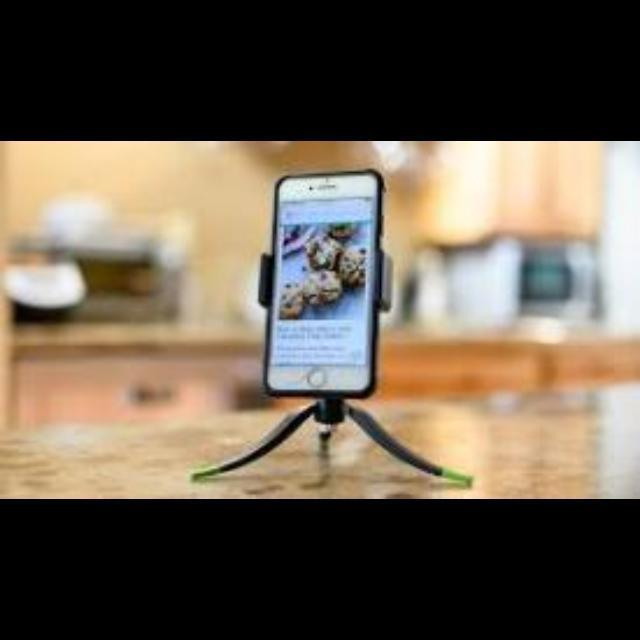PhoneUse: (271, 165, 375, 397)
